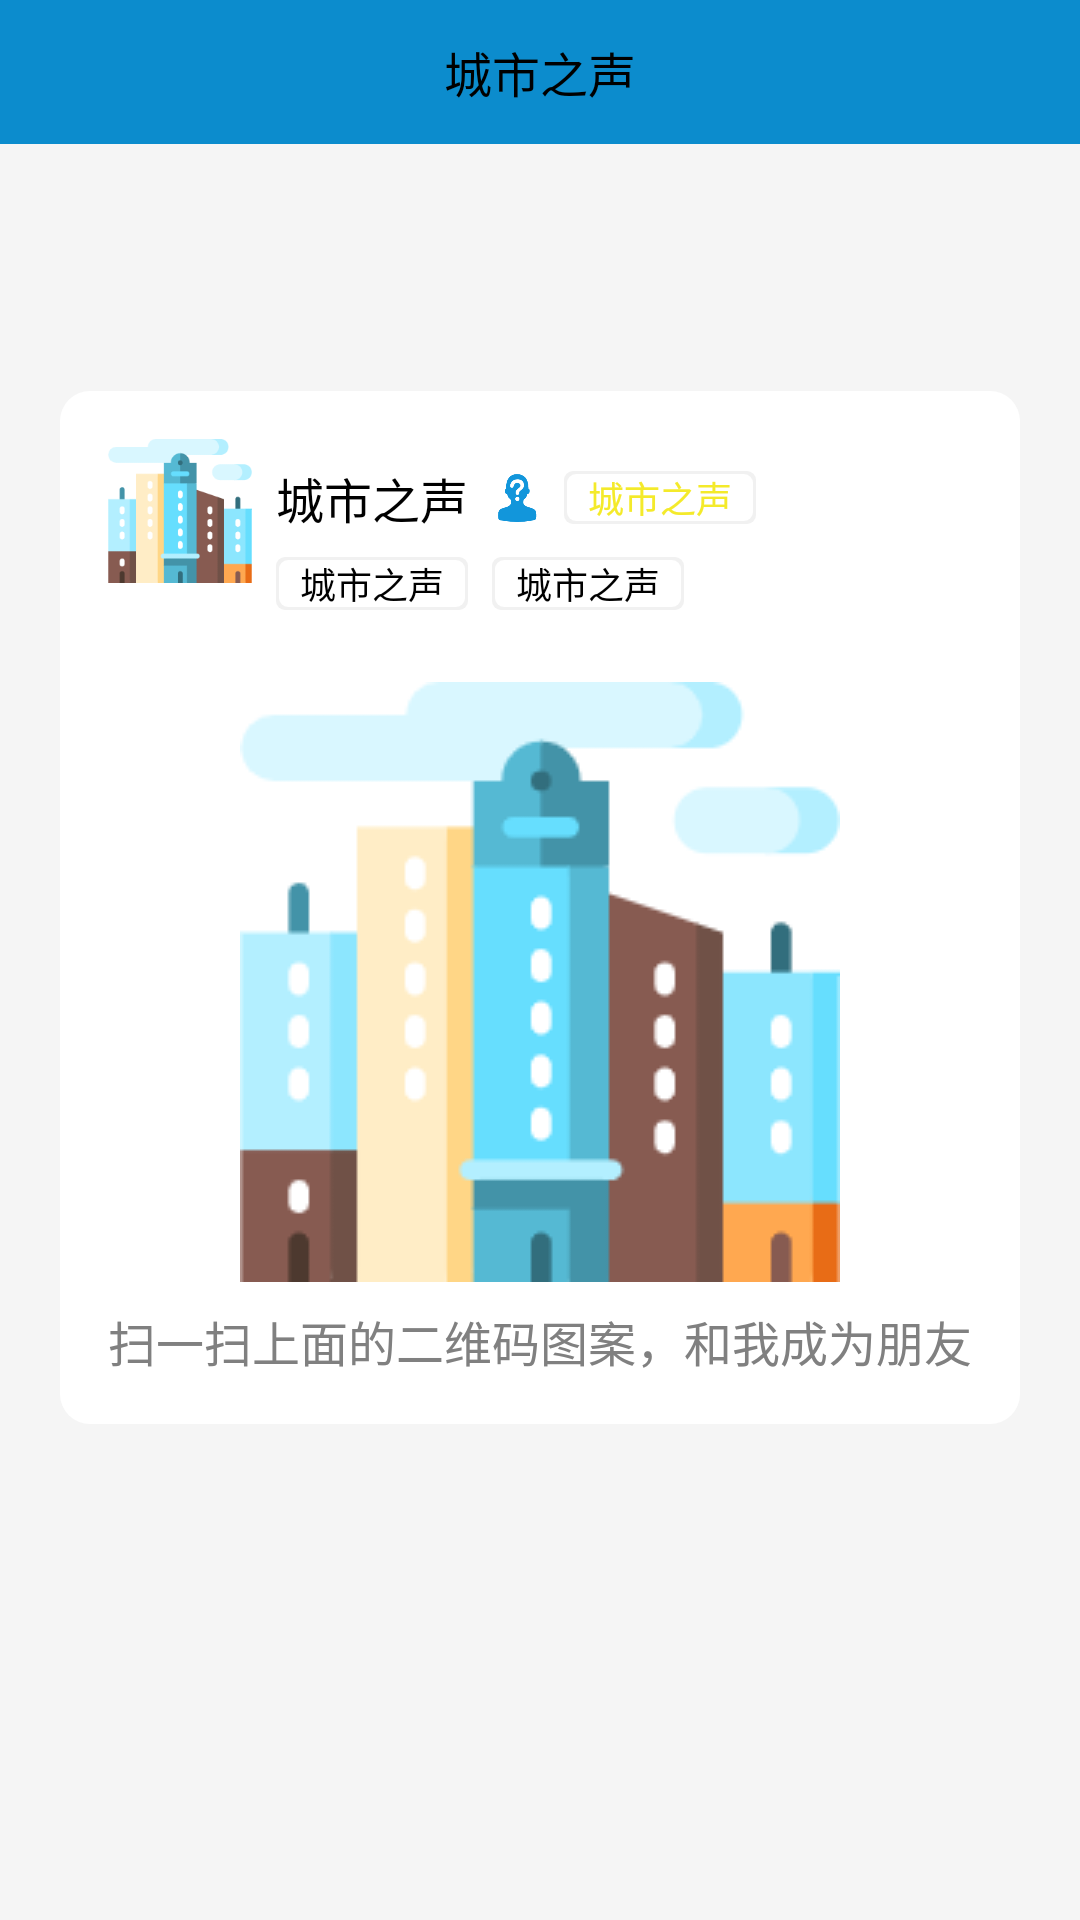

Icons on this 1080×1920 Android screen, each with the point to tap as (x=x, y=y):
other gender: (x=517, y=498)
